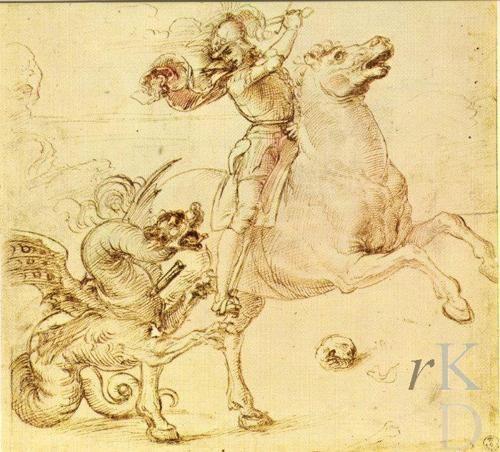dragon: (5, 154, 213, 430)
horse: (137, 36, 500, 442)
knight: (197, 13, 305, 312)
sword: (183, 7, 317, 50)
